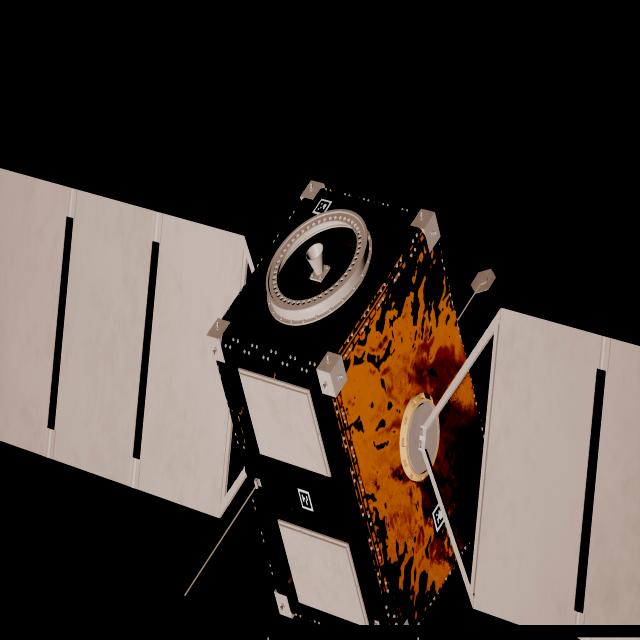medium_debris: (0, 168, 640, 637)
